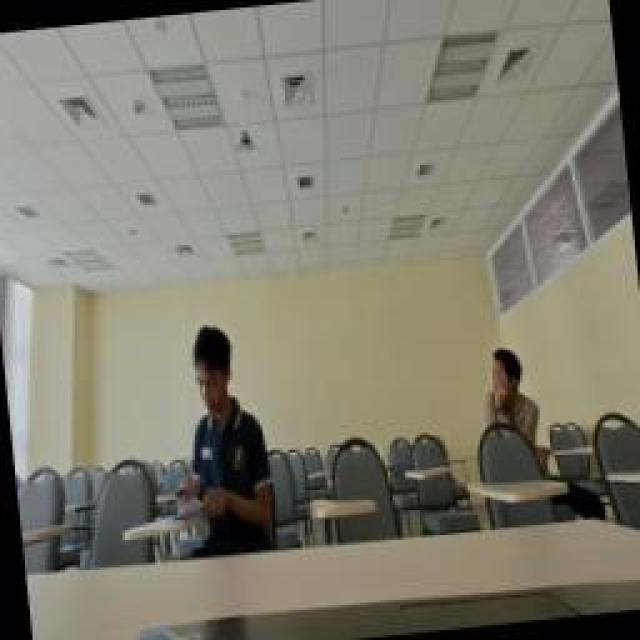study: (155, 315, 280, 555), (478, 340, 548, 482)
